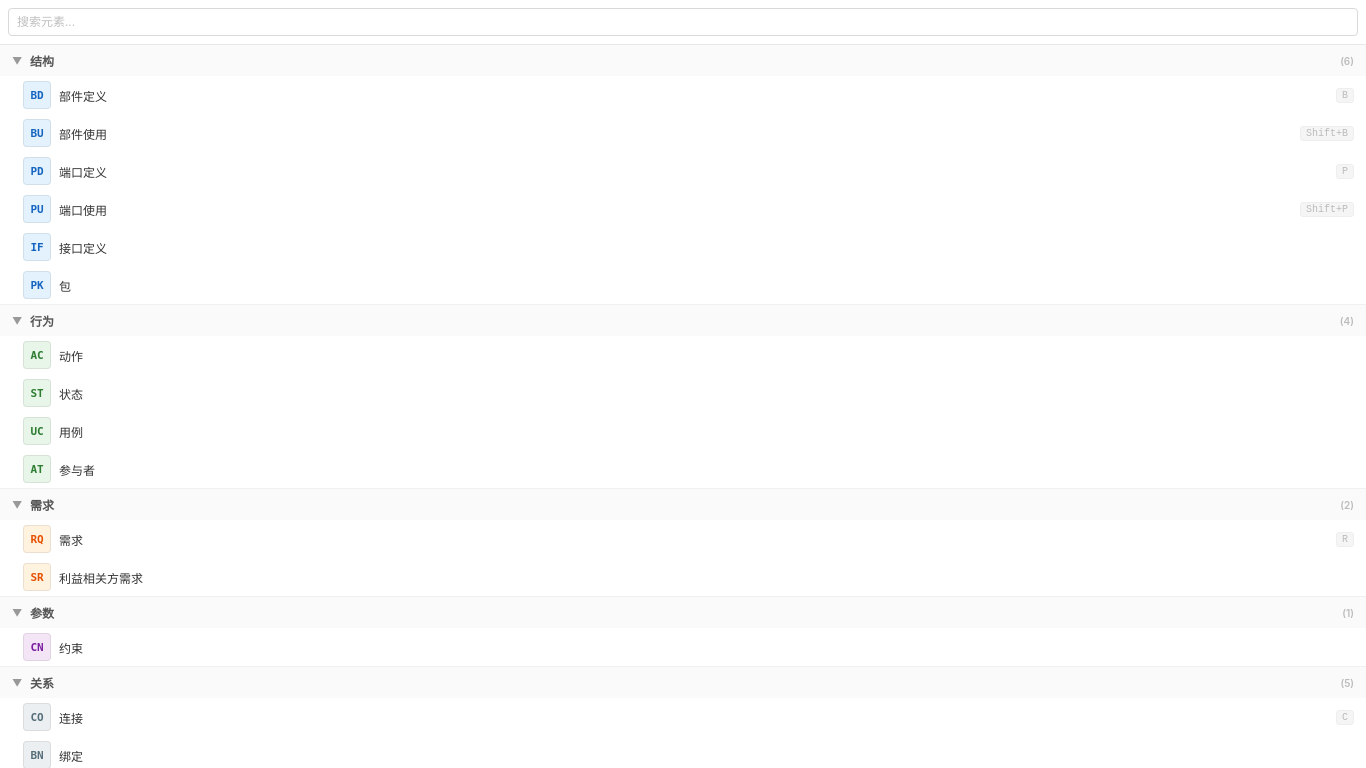
Scenario: ToolboxPanel — Category Collapse/Expand › 4.1 clicking category header should collapse it
expect the text "部件定义" is shown: met, box [59,88,107,104]
Click the "结构" header
Click the text "结构". click: x=42, y=62
box: [30,54,54,69]
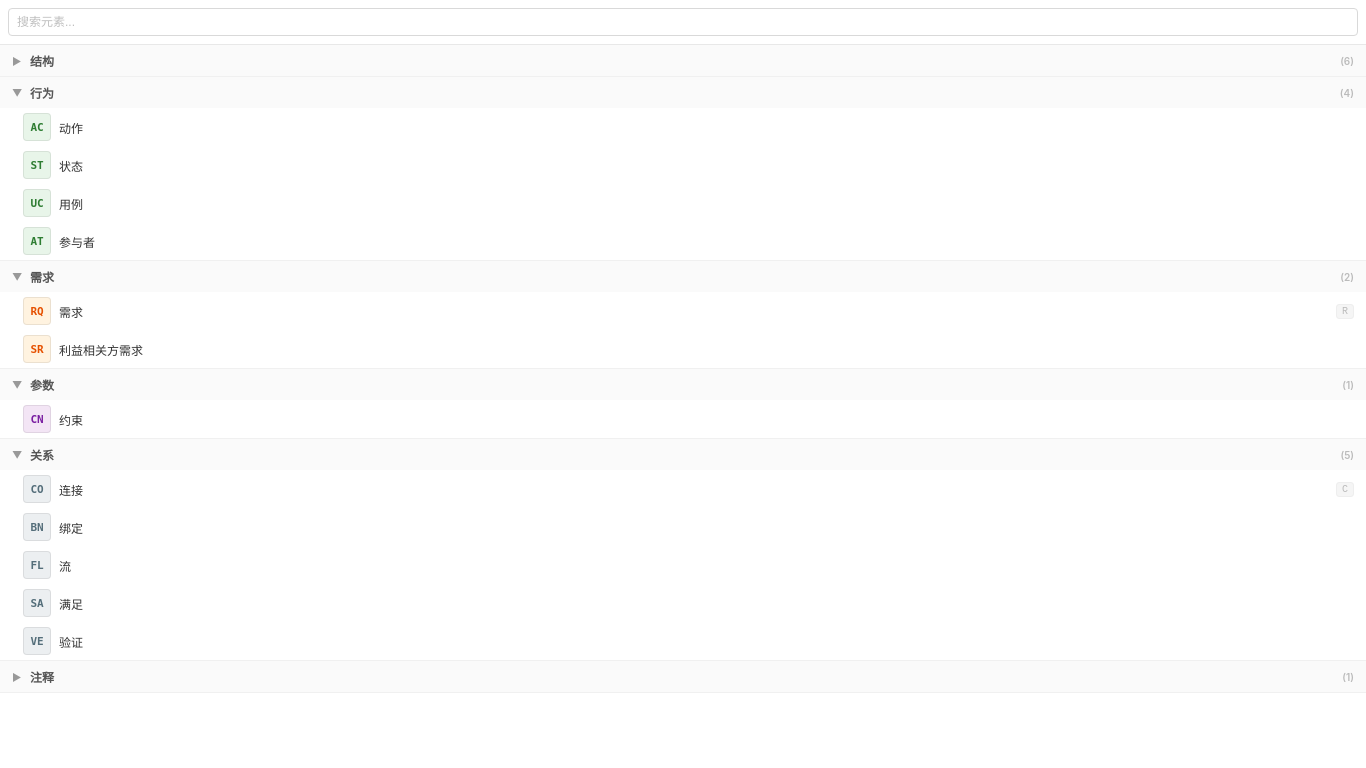
expect the text "部件定义" is gone: met
